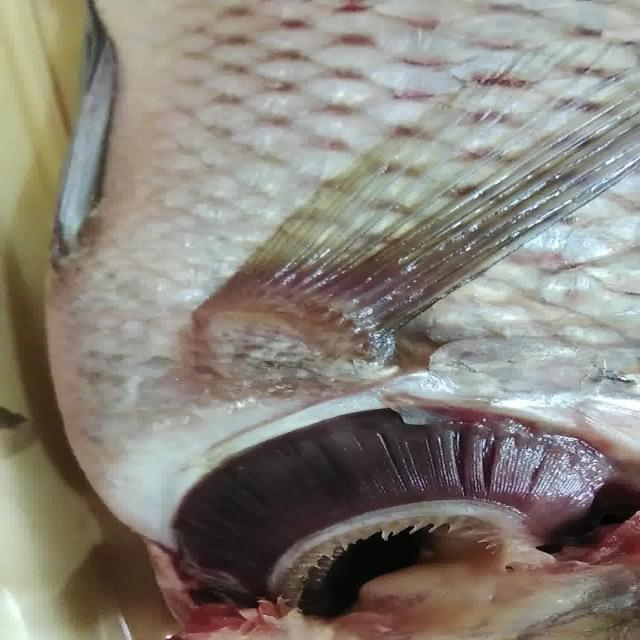Non-Fresh: (152, 424, 608, 604)
